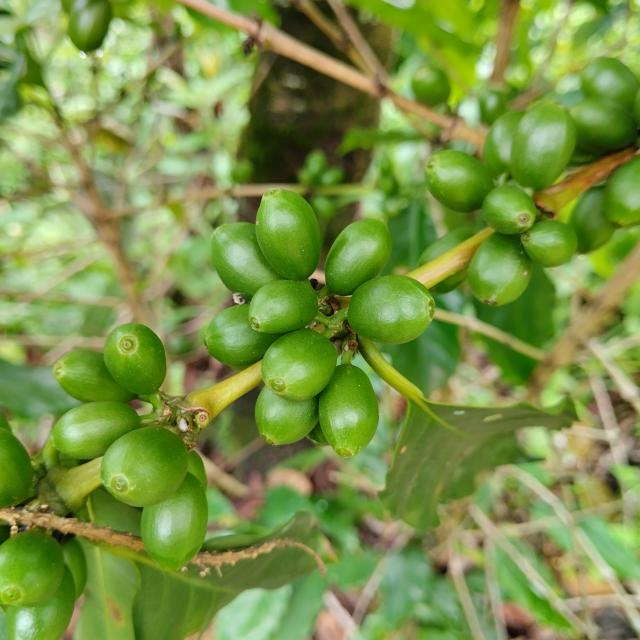green: (100, 427, 188, 508), (140, 473, 208, 571), (256, 188, 321, 281), (348, 275, 435, 344), (511, 102, 578, 190), (211, 222, 284, 301), (319, 364, 379, 458), (261, 329, 337, 402), (51, 401, 140, 460), (325, 218, 392, 296), (204, 304, 281, 371), (0, 529, 64, 608), (468, 232, 534, 306), (103, 324, 166, 395), (52, 350, 136, 403), (425, 149, 495, 212), (255, 386, 319, 446), (249, 279, 318, 334), (482, 185, 537, 234), (522, 220, 579, 267), (187, 451, 207, 490)
